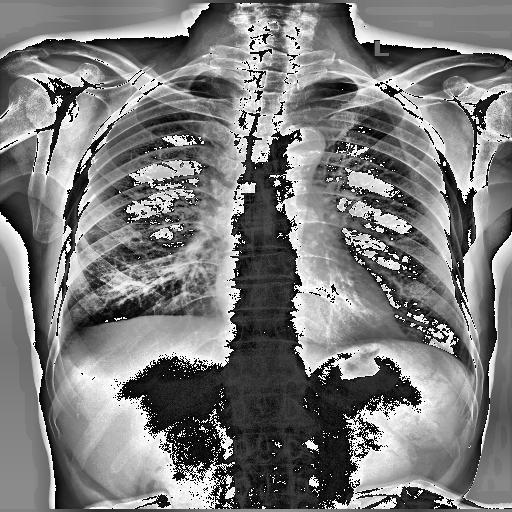0- Aortic enlargement: (280, 123, 326, 188), (280, 123, 326, 168)
10- Pleural effusion: (55, 320, 85, 358)
11- Pleural thickening: (50, 322, 88, 382), (55, 320, 85, 358)
